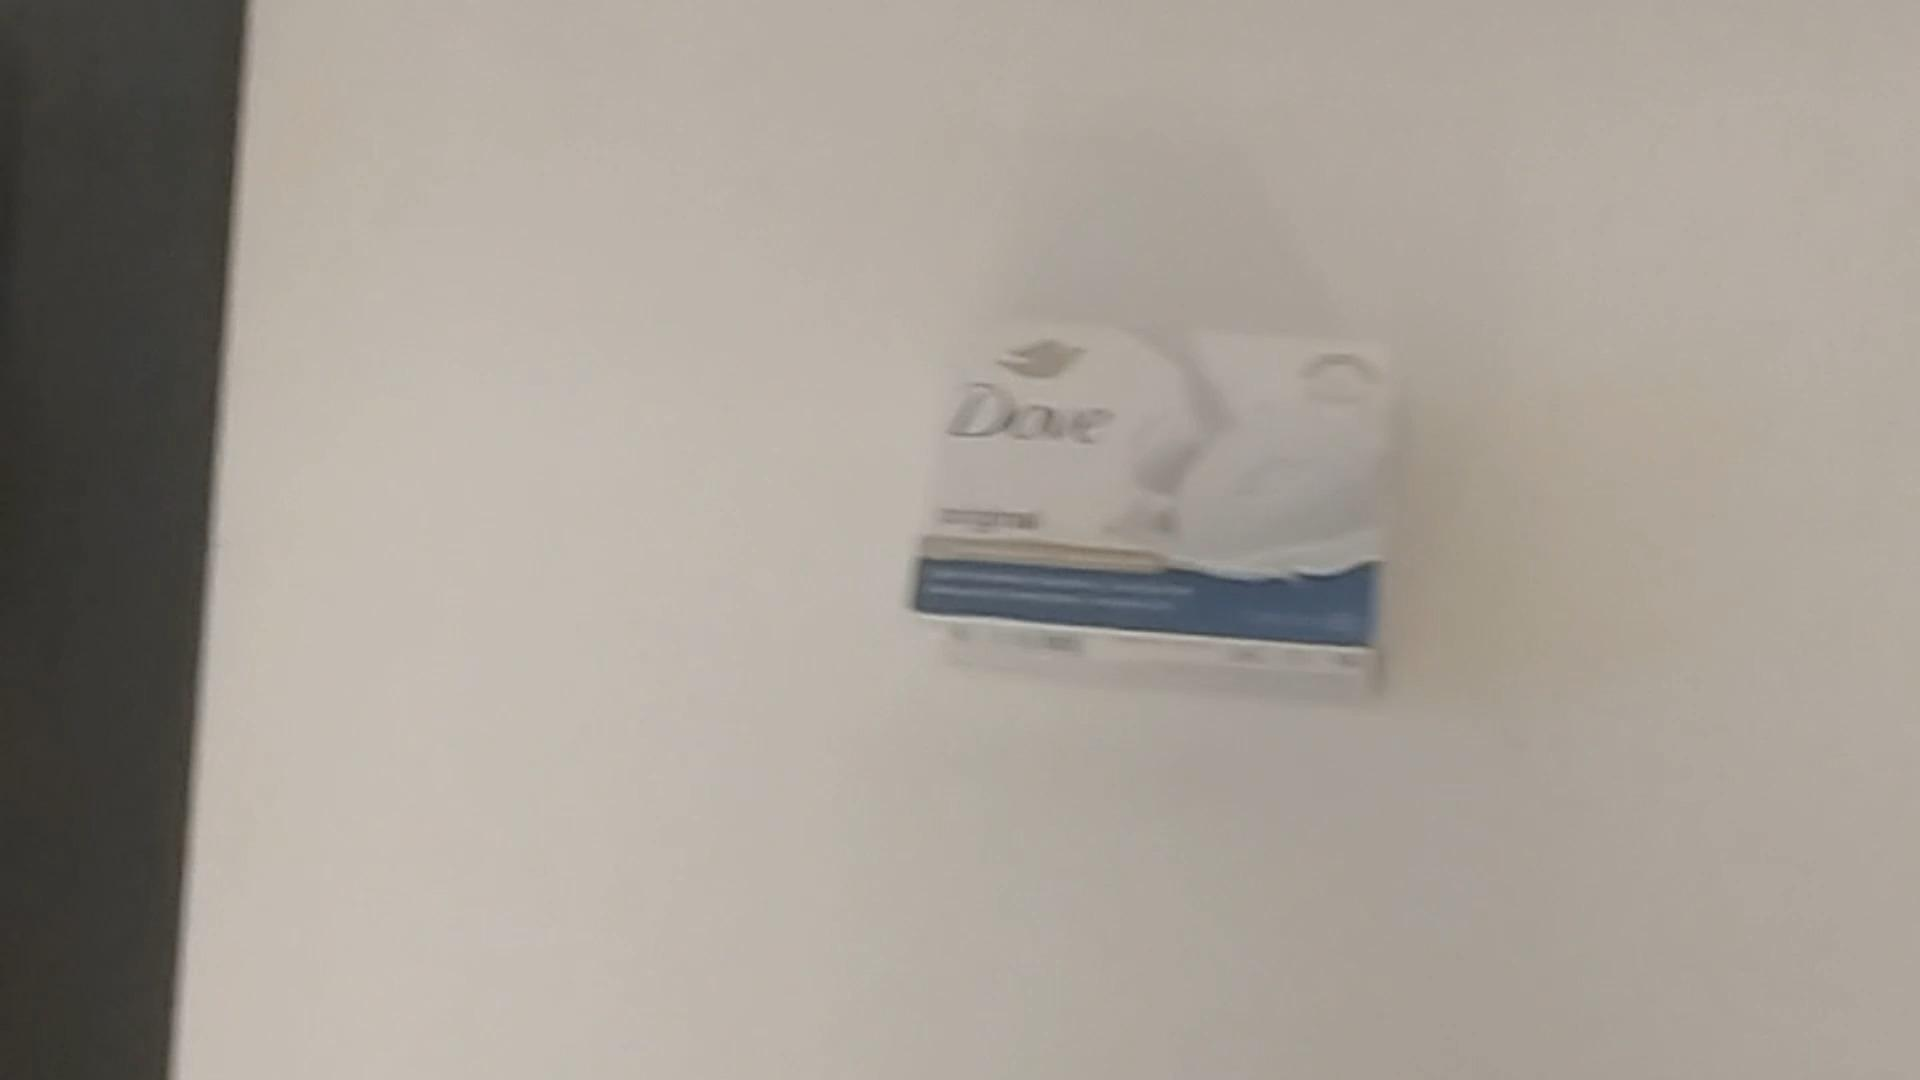soap: (895, 309, 1396, 695)
